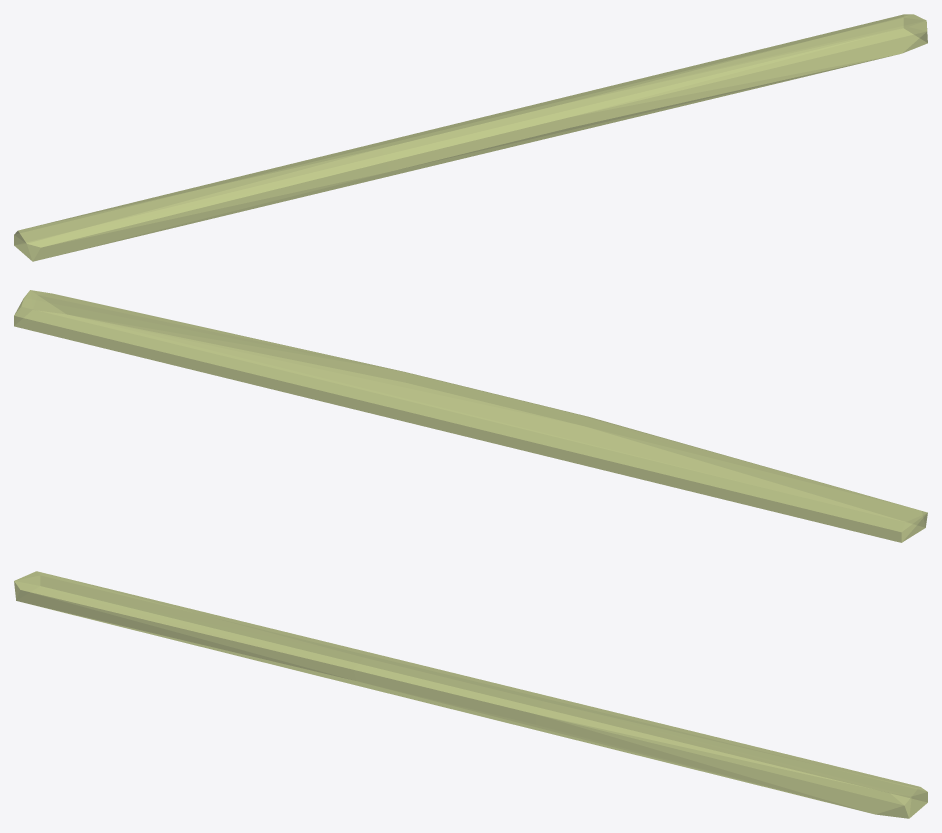
3 views of the same model, one above another, from view 1: azimuth 30°, elevation 25°; view 2: azimuth 150°, elevation 25°; view 3: azimuth 330°, elevation 25° (orthographic).
Parts seen in each view (by area): view 1: Shape_IndexedFaceSet.002_Shape_IndexedFaceSet.15146; view 2: Shape_IndexedFaceSet.002_Shape_IndexedFaceSet.15146; view 3: Shape_IndexedFaceSet.002_Shape_IndexedFaceSet.15146.
Part boxes in pixels (box(x1,y1,x2,y2)): Shape_IndexedFaceSet.002_Shape_IndexedFaceSet.15146: box(14, 14, 927, 261); Shape_IndexedFaceSet.002_Shape_IndexedFaceSet.15146: box(14, 290, 927, 542); Shape_IndexedFaceSet.002_Shape_IndexedFaceSet.15146: box(14, 571, 927, 818).
Size of the model in its own units: 1.06 by 0.0321 by 0.0602.
